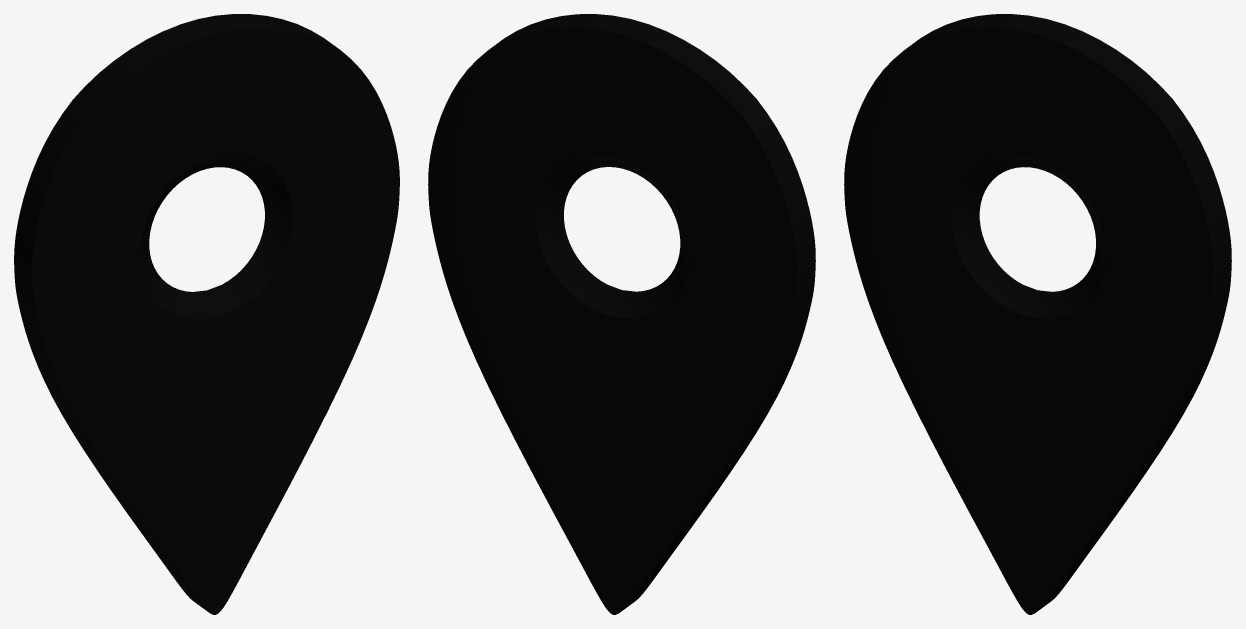
Rendered from nodatamarker.glb.
3 views of the same model, side by side, from view 1: azimuth 30°, elevation 25°; view 2: azimuth 150°, elevation 25°; view 3: azimuth 330°, elevation 25° (orthographic).
Visible parts, largest first — view 1: node_id32, node_id35; view 2: node_id32, node_id35; view 3: node_id32, node_id35.
Boxes of the visible parts, left/top/right/bottom form: node_id32: left=14, top=14, right=399, bottom=614; node_id35: left=140, top=155, right=291, bottom=318; node_id32: left=428, top=14, right=815, bottom=614; node_id35: left=536, top=155, right=689, bottom=318; node_id32: left=844, top=14, right=1231, bottom=614; node_id35: left=953, top=155, right=1105, bottom=318.
Size of the model in its own units: 0.3395 by 0.512 by 0.0306.
Materials: 2 (2 with a texture image).
